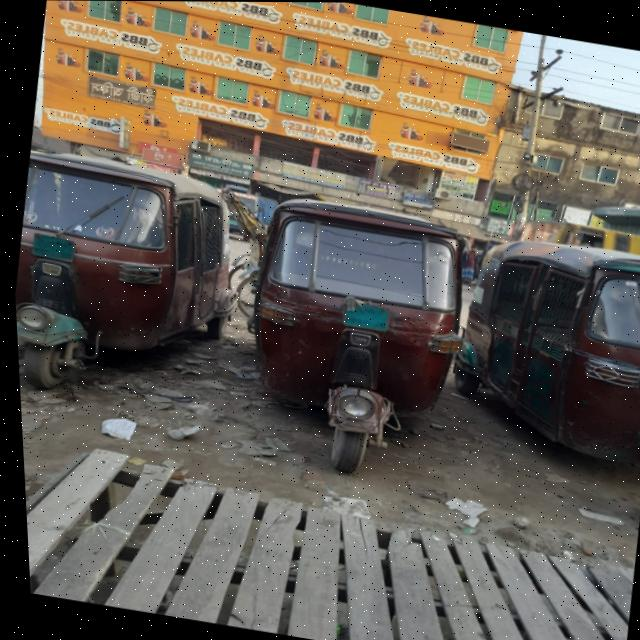cng: (223, 194, 487, 514), (5, 132, 243, 424), (469, 222, 640, 482)
